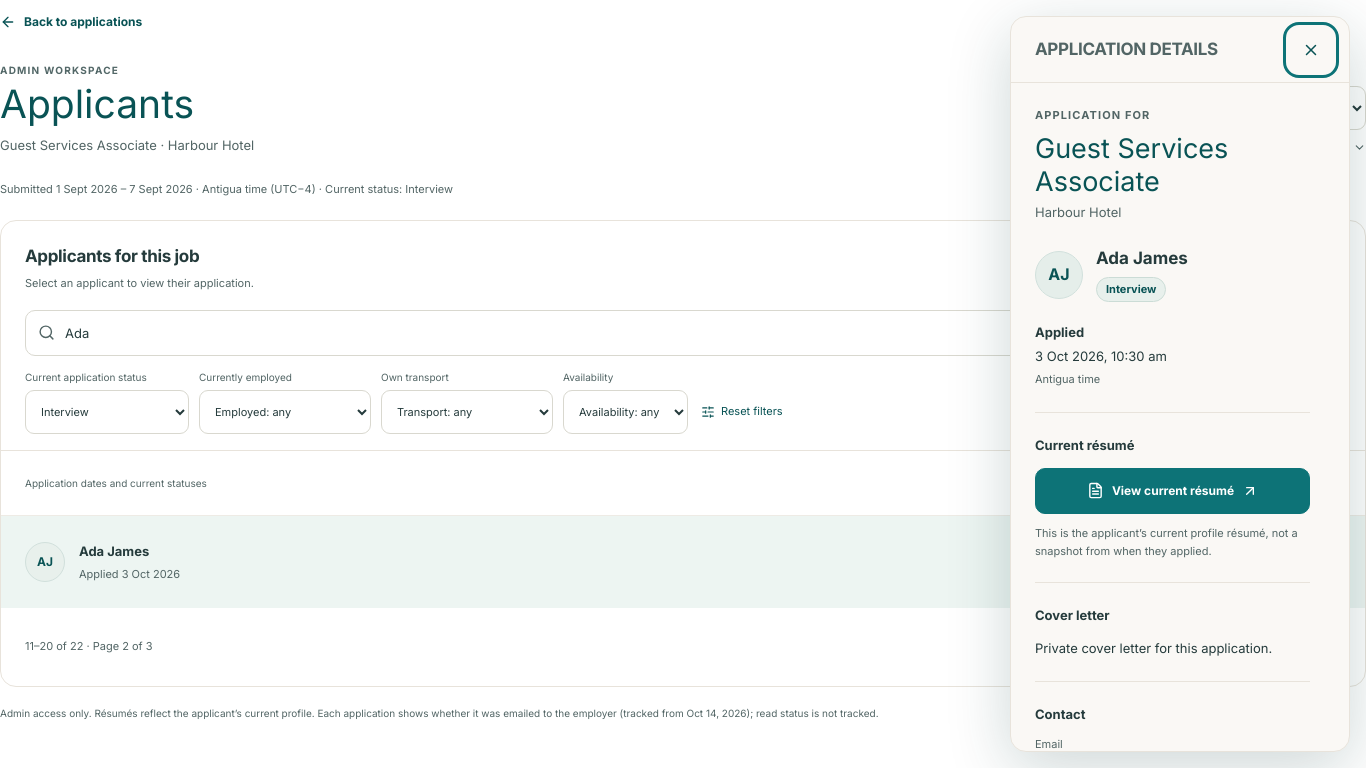
Test: Applications workspace URL state › resets only the applicant view while keeping the overview context available on return
Expected: the button with aria-label "View application from Ada James" is shown, [1, 516, 1365, 608]
Click the button "Reset filters".
click(742, 412)  # box [698, 390, 786, 434]
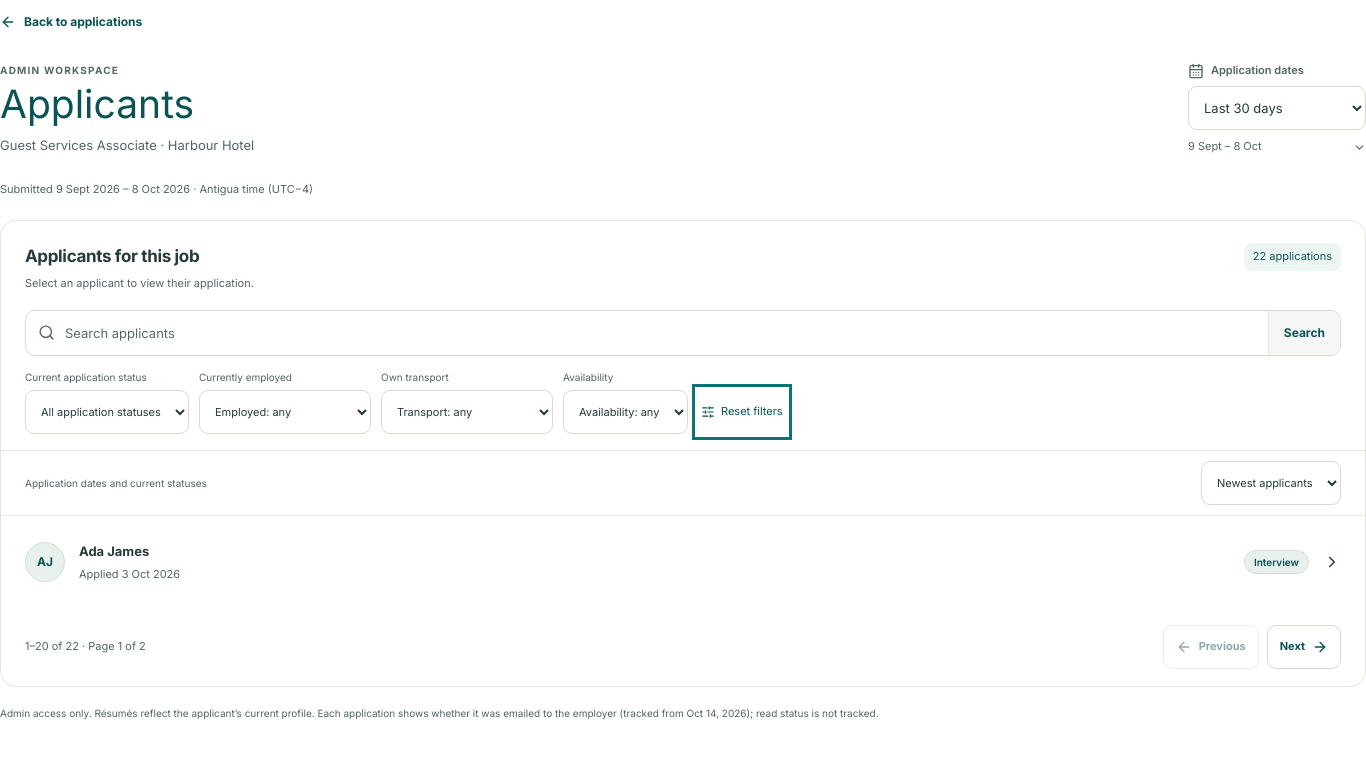
Expected: the dialog is gone
Expected: the dropdown labelled "Current application status" shows "All application statuses", [25, 390, 189, 434]
